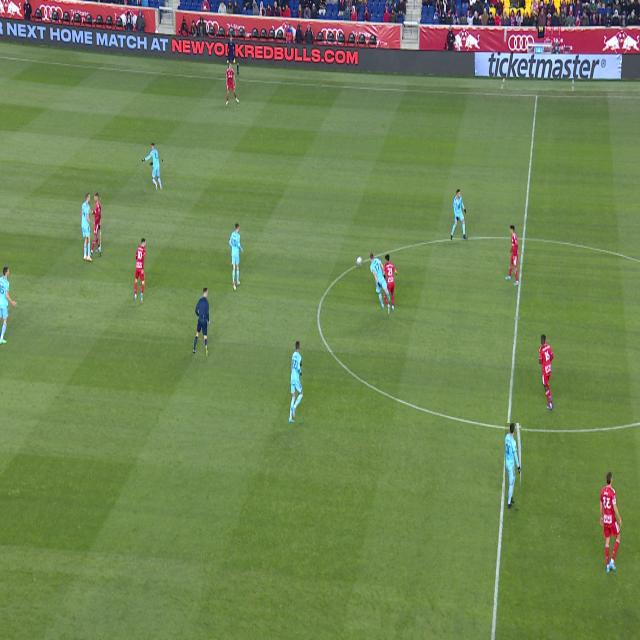football: (357, 256, 362, 266)
player: (600, 472, 622, 573), (0, 267, 18, 344), (505, 423, 521, 509), (370, 252, 390, 310), (289, 341, 303, 423), (539, 334, 554, 410), (229, 223, 244, 291), (143, 143, 162, 190), (505, 225, 519, 286), (383, 254, 397, 314), (451, 189, 467, 240), (134, 238, 146, 303), (81, 193, 92, 261), (90, 193, 101, 256), (226, 64, 239, 105)
referee: (193, 287, 210, 357)
